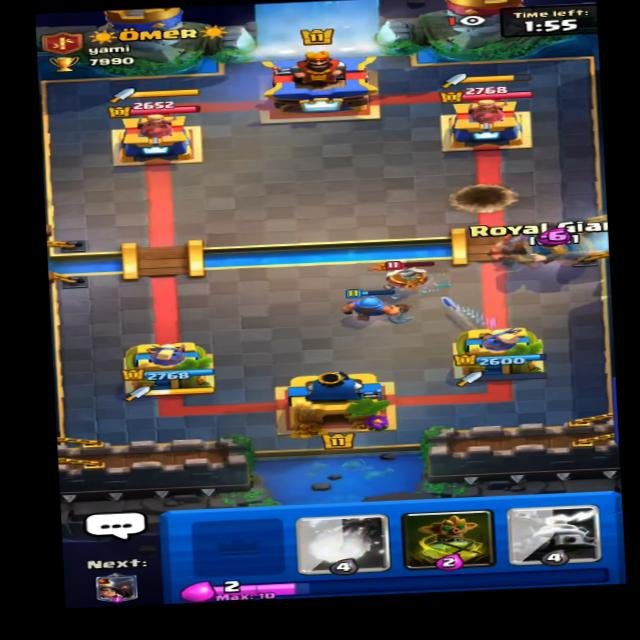Lumberjack: (477, 224, 547, 266)
Monk: (369, 252, 436, 295)
